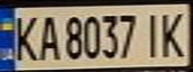0: (81, 11, 103, 61)
3: (100, 11, 121, 60)
7: (118, 10, 142, 60)
8: (60, 11, 84, 61)
A: (33, 11, 60, 62)
I: (139, 9, 166, 60)
K: (9, 11, 42, 63), (157, 7, 190, 58)
